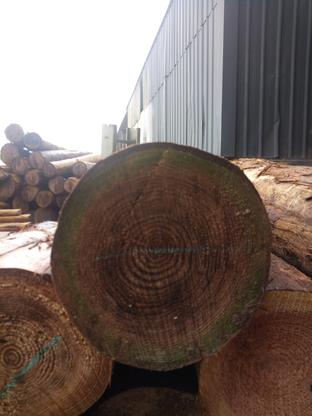mood: (52, 143, 273, 371)
